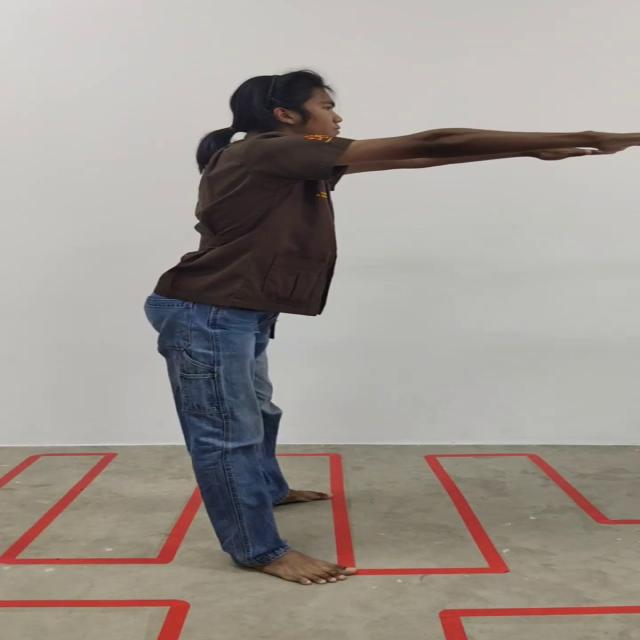stand: (145, 70, 640, 587)
